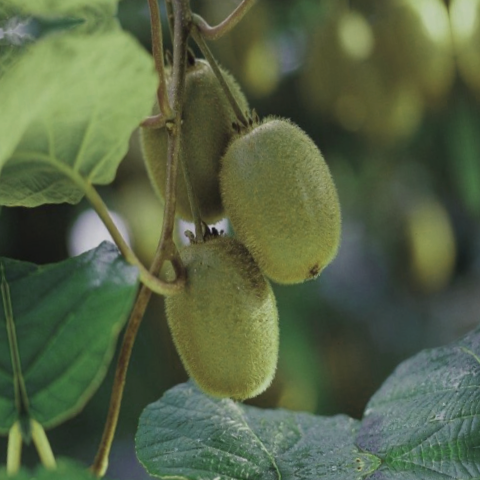kiwi: (144, 209, 308, 414), (129, 43, 278, 245), (206, 103, 360, 295)
